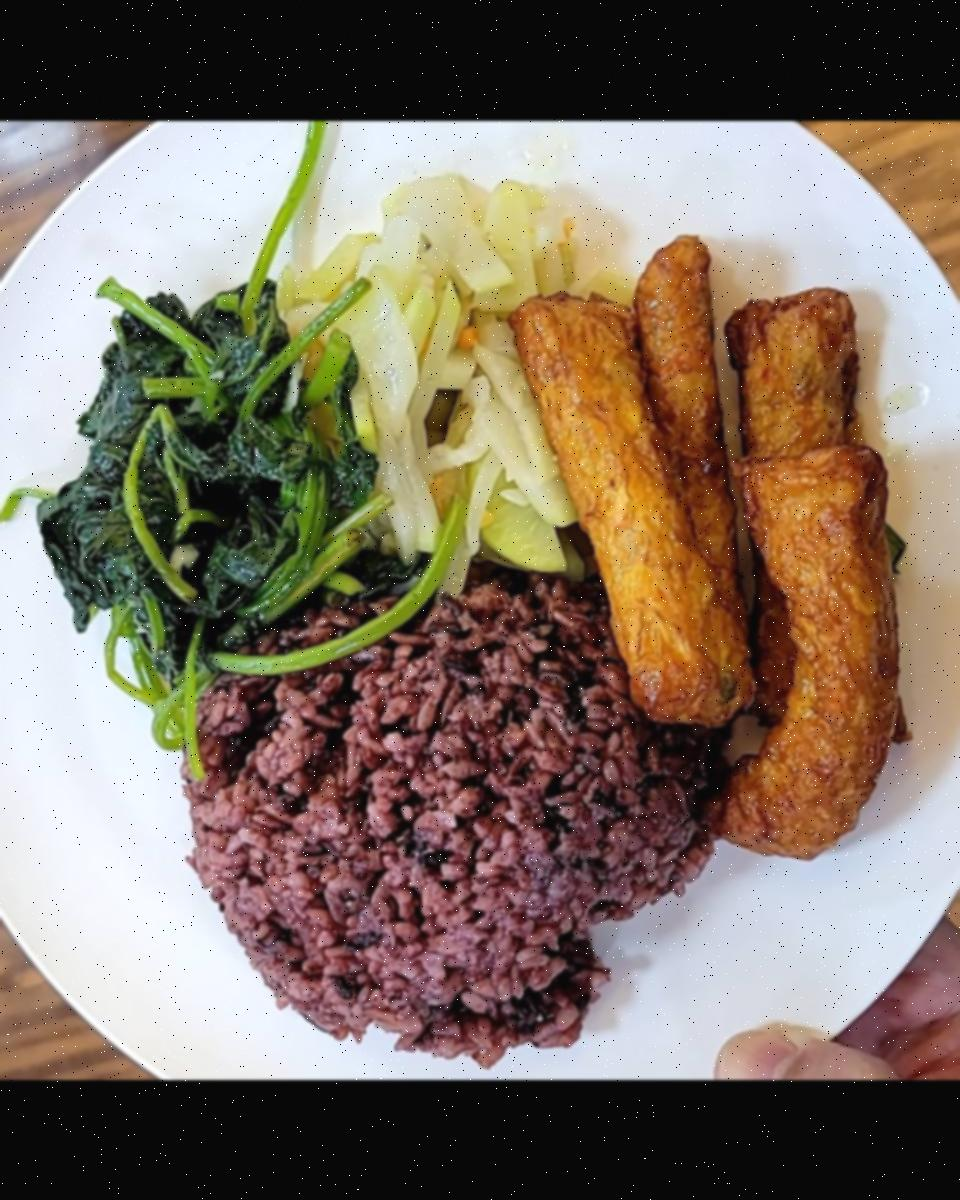plate: (0, 120, 960, 1080)
purple rice: (166, 541, 730, 1063)
shrimp rolls: (503, 230, 928, 875)
side dish: (26, 241, 358, 713), (273, 166, 596, 562)
